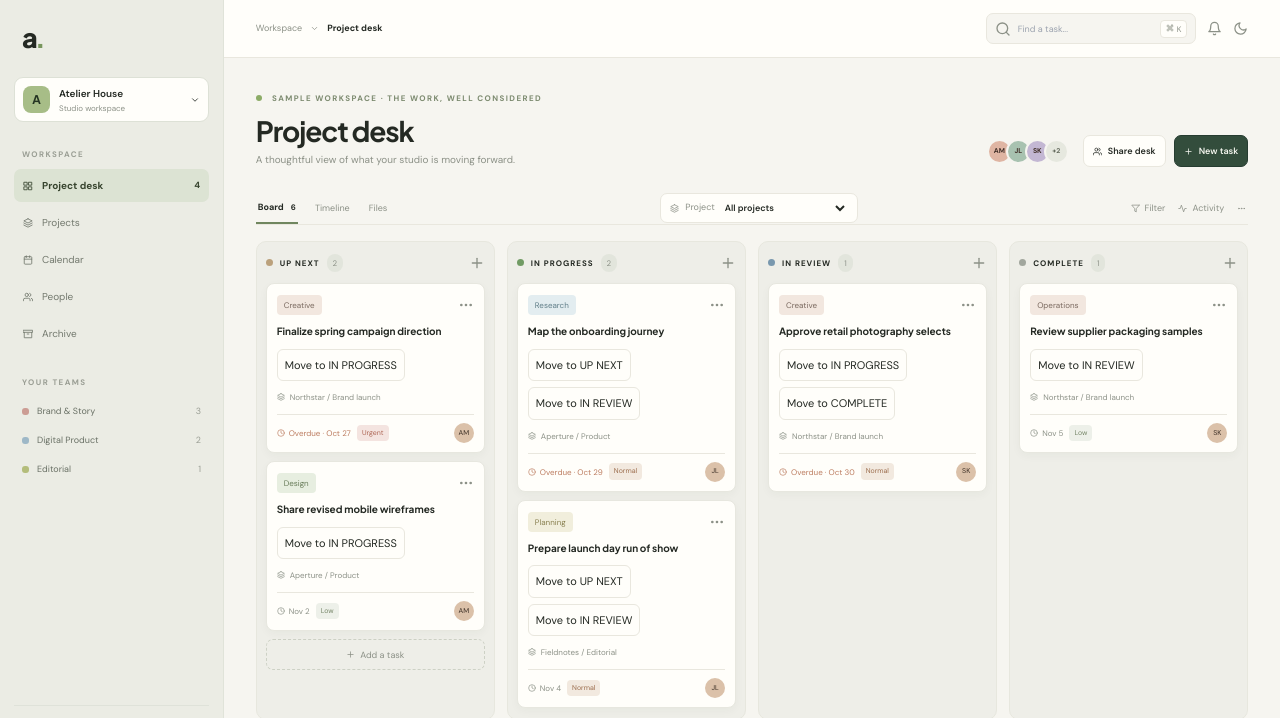
Atelier task editor › keeps a column quick-add in the stage that opened the editor
Click the button named "Add to IN PROGRESS" at point(728, 262), box top-left (720, 254), bottom-right (736, 270)
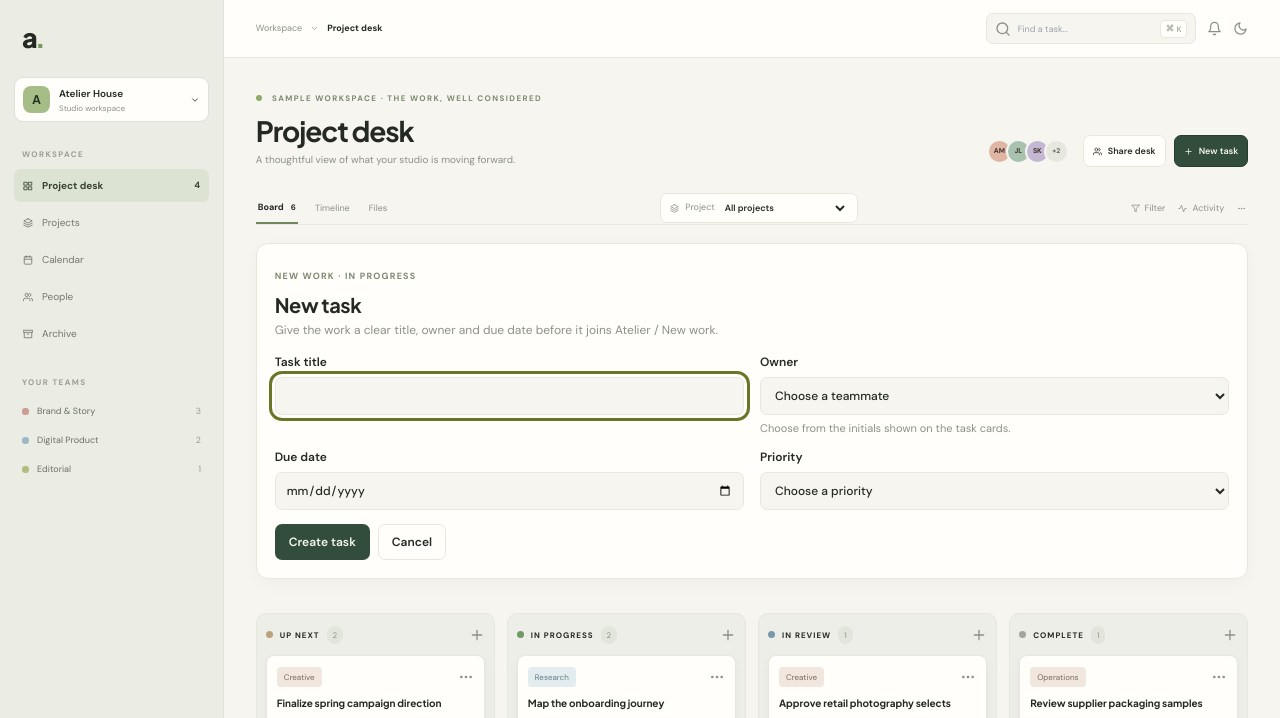
Check: the text "NEW WORK · IN PROGRESS" is shown, box top-left (275, 270), bottom-right (416, 282)
Type "Prepare a review handoff" into the field labelled "Task title" at point(509, 396), box top-left (275, 377), bottom-right (744, 415)
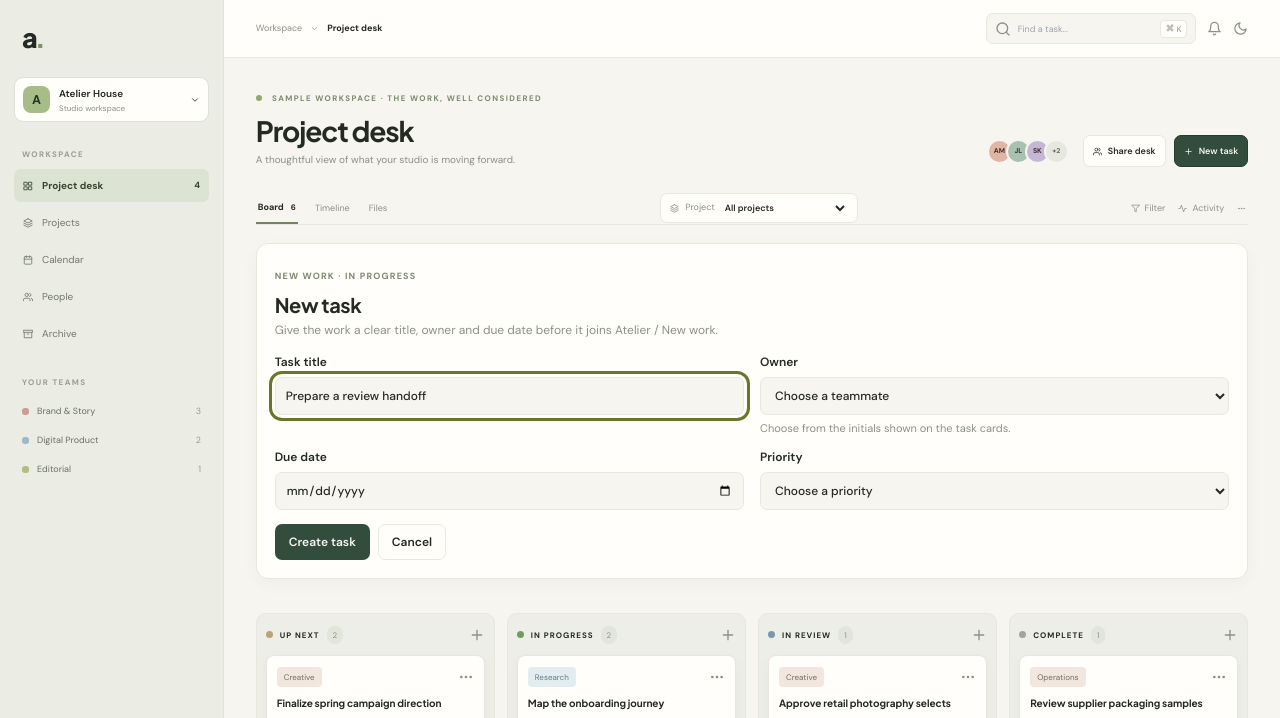
Select "AM" in the dropdown labelled "Owner" at point(995, 396), box top-left (760, 377), bottom-right (1229, 415)
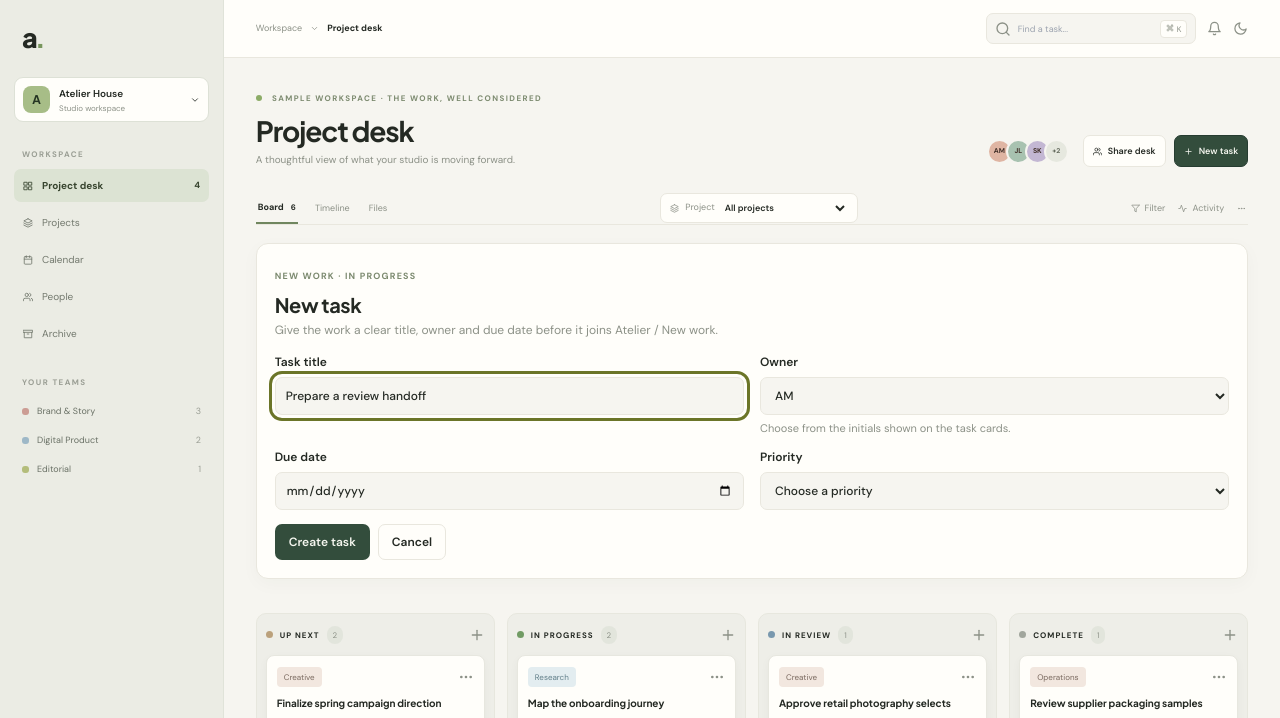
Type "2026-11-12" into the date field labelled "Due date" at point(509, 491), box top-left (275, 472), bottom-right (744, 510)
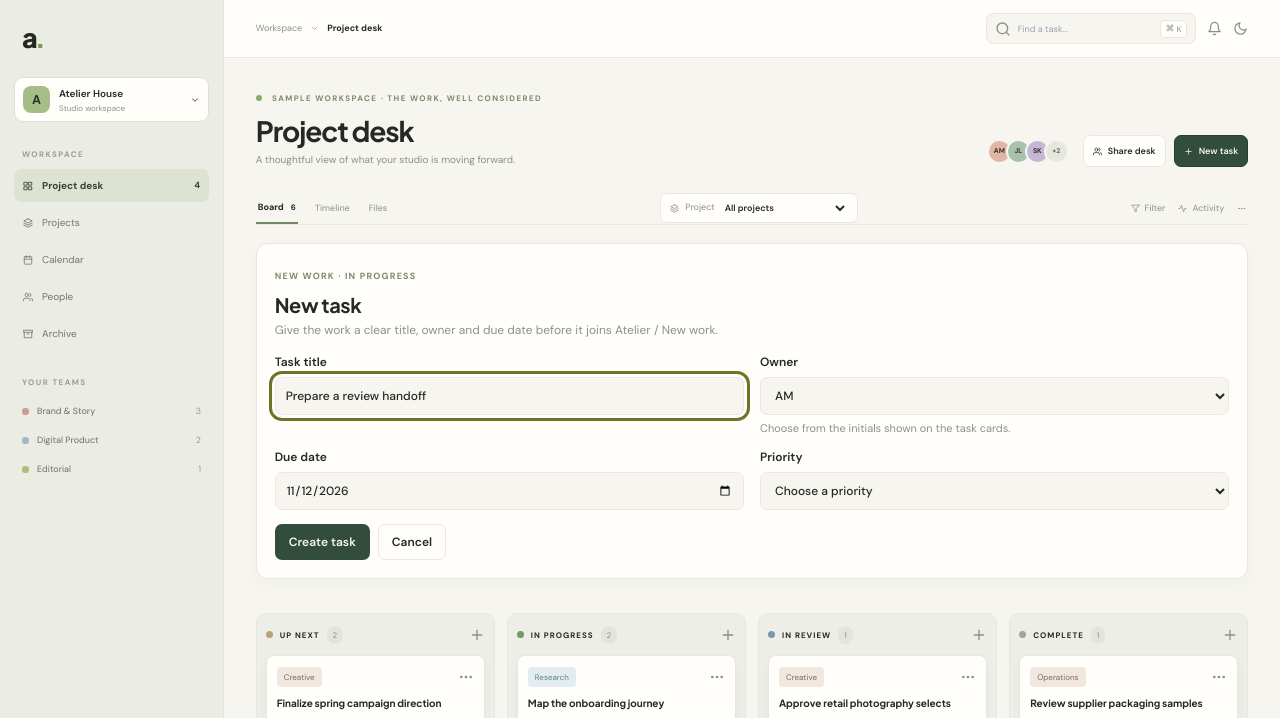
Select "Normal" in the dropdown labelled "Priority" at point(995, 491), box top-left (760, 472), bottom-right (1229, 510)
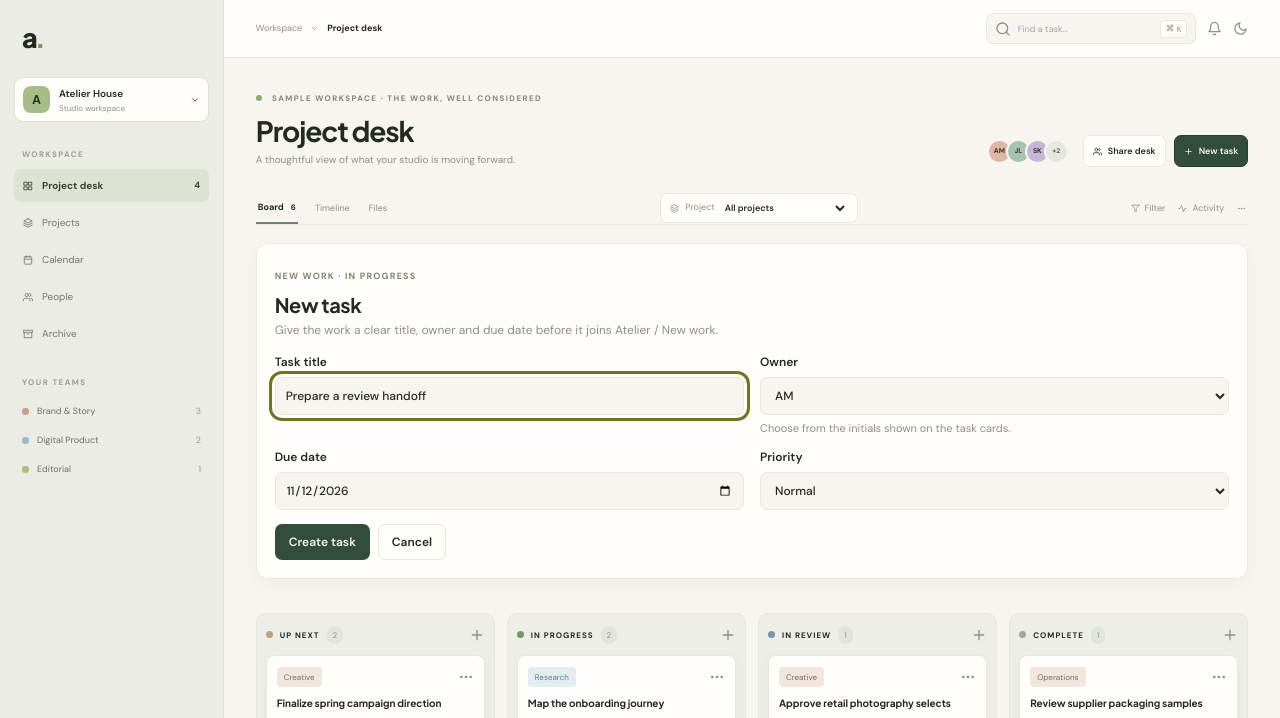
Click the button "Create task" at point(322, 542), box top-left (275, 524), bottom-right (370, 560)
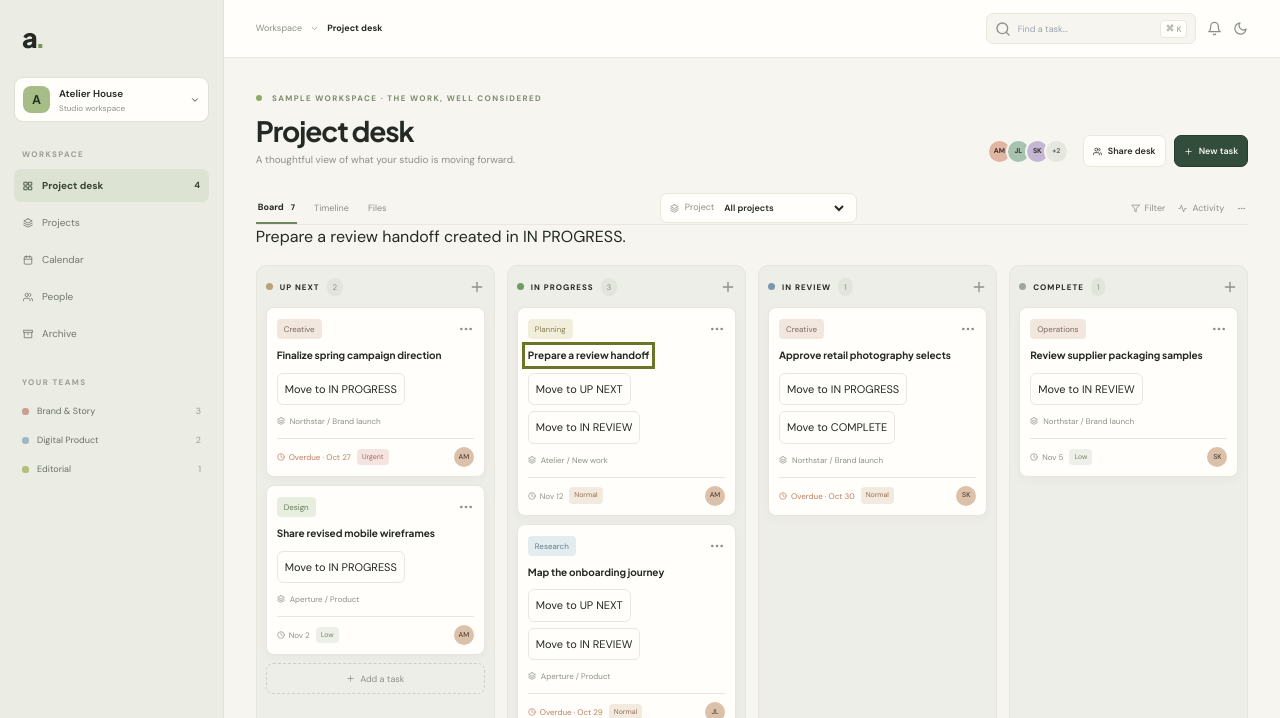
Check: the button "Prepare a review handoff" is shown, box top-left (528, 348), bottom-right (649, 362)
